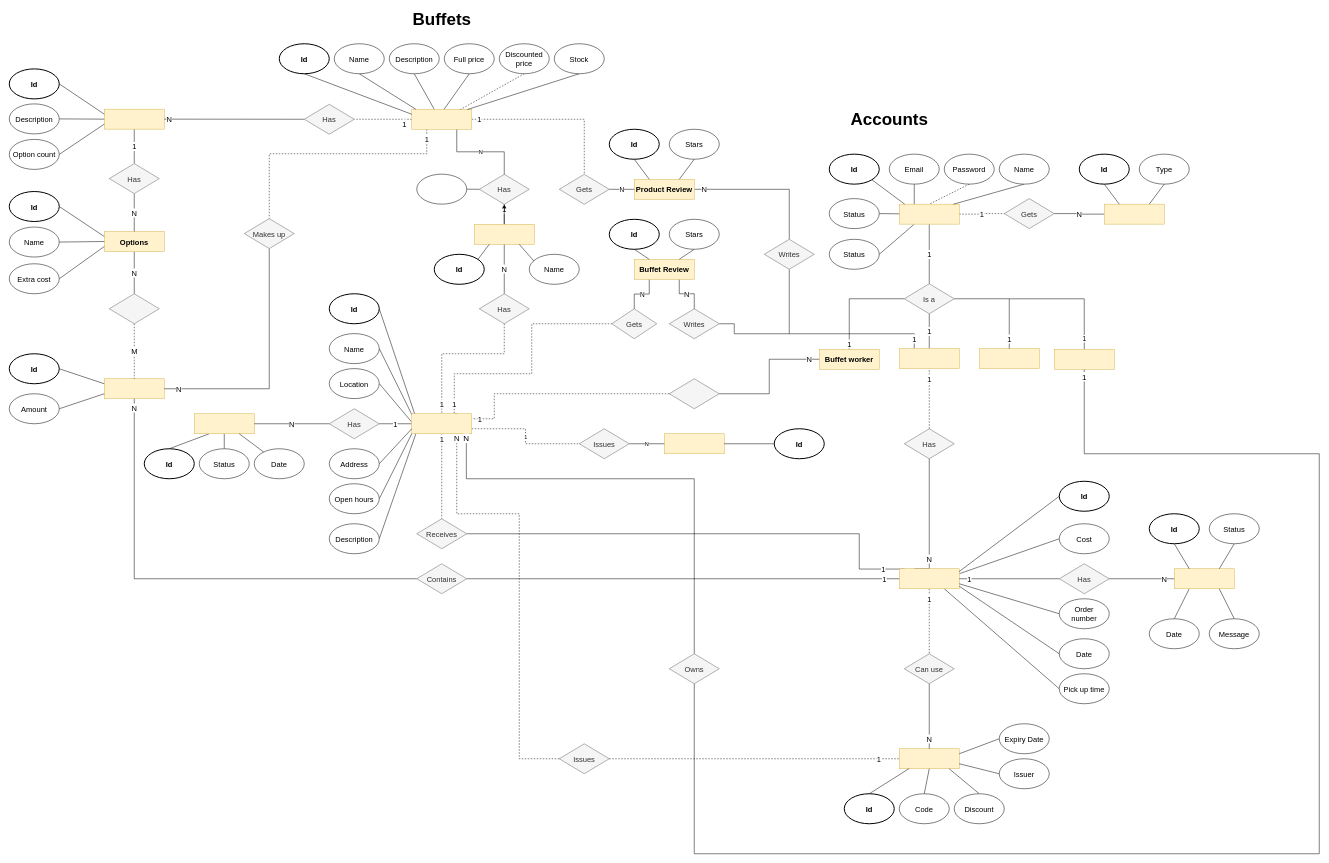
The diagram is 1329 pixels wide and 863 high, and some of its shapes have lost their labels. Each missing label, with the centre of its shape:
Admin: pixel 1009 358
Buffet: pixel 441 423
Buffet owner: pixel 1084 359
Buffet Status: pixel 224 423
Category: pixel 504 234
Cupon: pixel 929 758
Customer: pixel 929 358
Customises: pixel 134 308
Customization: pixel 134 119
Employs: pixel 694 393
Invitation token: pixel 694 443
Is deal: pixel 441 189
Order: pixel 929 578
Order Status: pixel 1204 578
Ordered Product: pixel 134 388
Product: pixel 441 119
Token: pixel 1134 214
User: pixel 929 214
